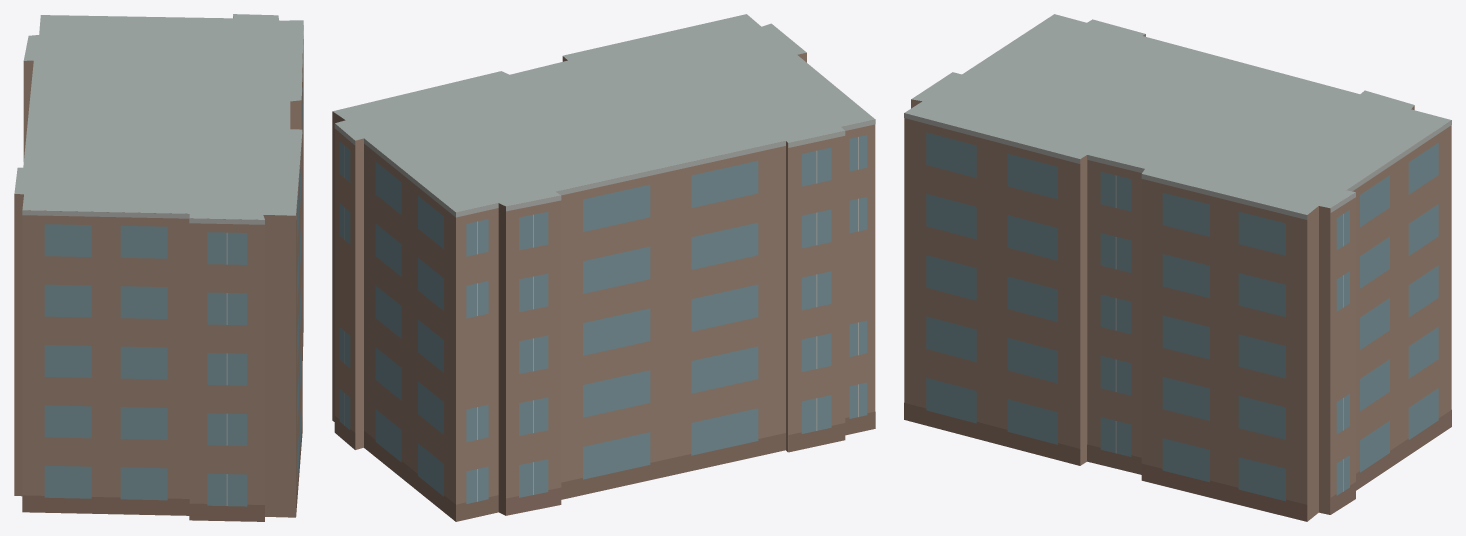
The model's file is survey-upis-32687114.glb.
The picture shows the model from 3 angles, left to right: view 1: azimuth 30°, elevation 25°; view 2: azimuth 150°, elevation 25°; view 3: azimuth 270°, elevation 25°; orthographic projection. The views are drawn at different scales.
Visible parts, largest first — view 1: survey-upis-32687114.tmp; view 2: survey-upis-32687114.tmp; view 3: survey-upis-32687114.tmp.
Boxes of the visible parts, box(x1,y1,x2,y2) form: survey-upis-32687114.tmp: box(14, 14, 303, 521); survey-upis-32687114.tmp: box(332, 14, 875, 521); survey-upis-32687114.tmp: box(904, 14, 1451, 521).
Bounding box in the file's own units: 21.24 × 15.1 × 24.43.
